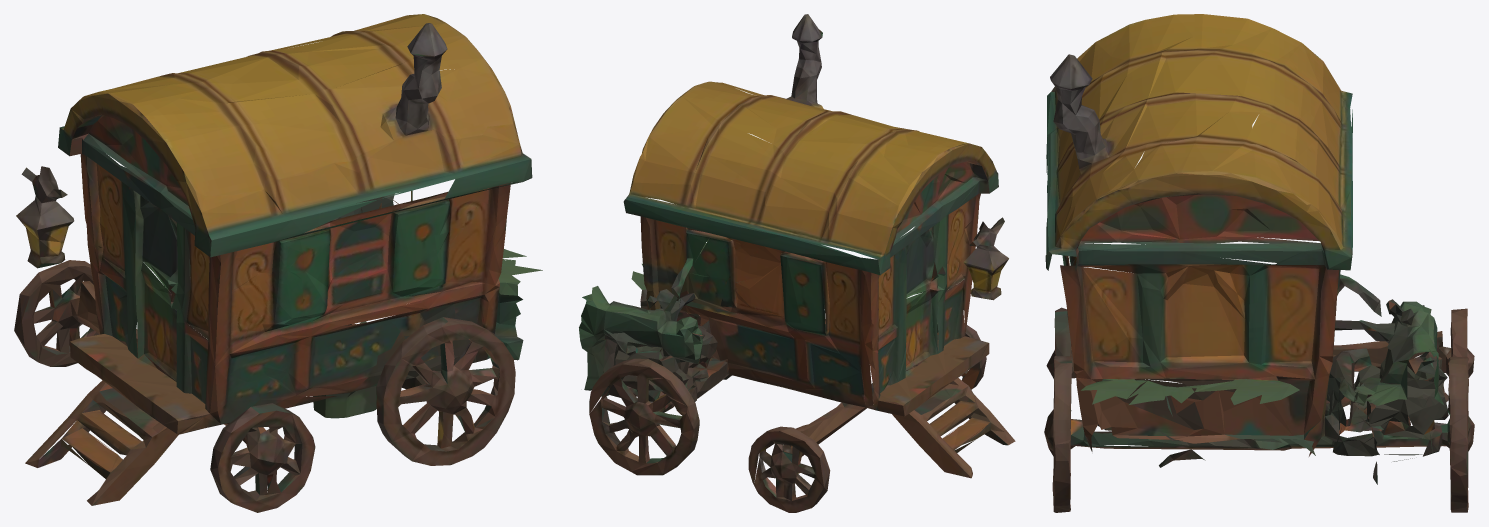
The model's file is wagon_b.glb.
3 renders of one model, left to right at view 1: azimuth 30°, elevation 25°; view 2: azimuth 150°, elevation 25°; view 3: azimuth 270°, elevation 25°, orthographic. The views are drawn at different scales.
Visible parts, largest first — view 1: geometry_0; view 2: geometry_0; view 3: geometry_0.
Boxes of the visible parts, box(x1,y1,x2,y2) form: geometry_0: box(14, 14, 542, 512); geometry_0: box(579, 14, 1015, 512); geometry_0: box(1044, 14, 1474, 512).
Size of the model in its own units: 2.3 by 2.15 by 1.88.
Materials: 1 (1 with a texture image).
